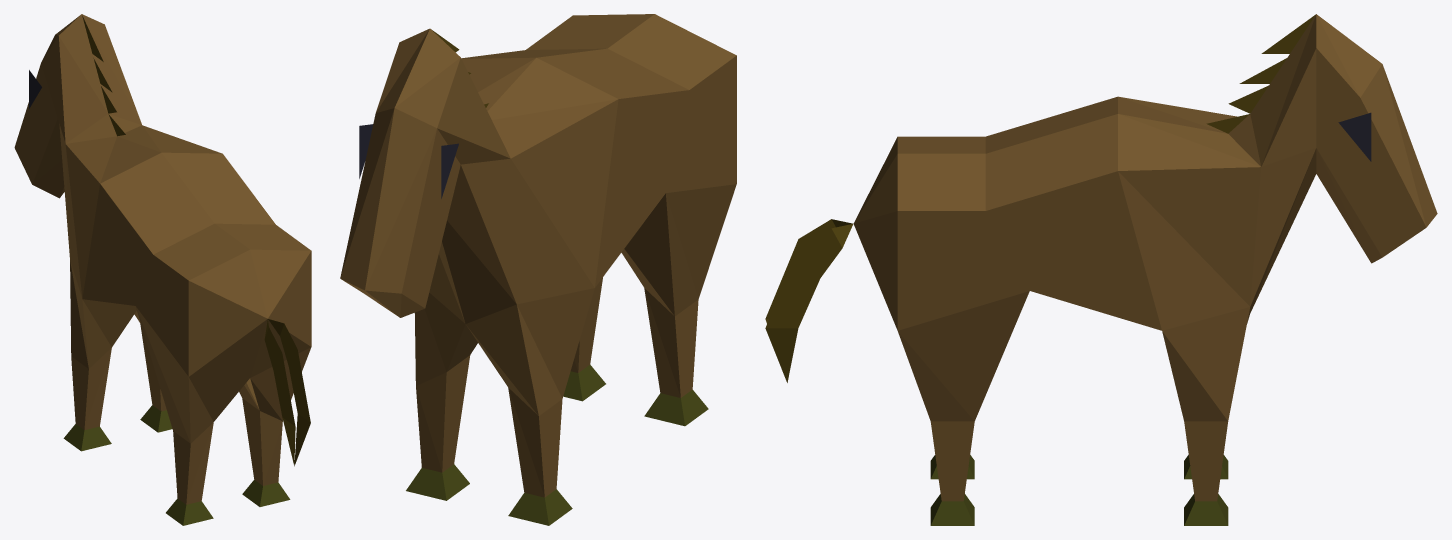
The model's file is inv_toy_horsey_4.obj.
The picture shows the model from 3 angles, left to right: view 1: azimuth 30°, elevation 25°; view 2: azimuth 150°, elevation 25°; view 3: azimuth 270°, elevation 25°; orthographic projection. The views are drawn at different scales.
Bounding box in the file's own units: 0.125 × 0.375 × 0.4766.
